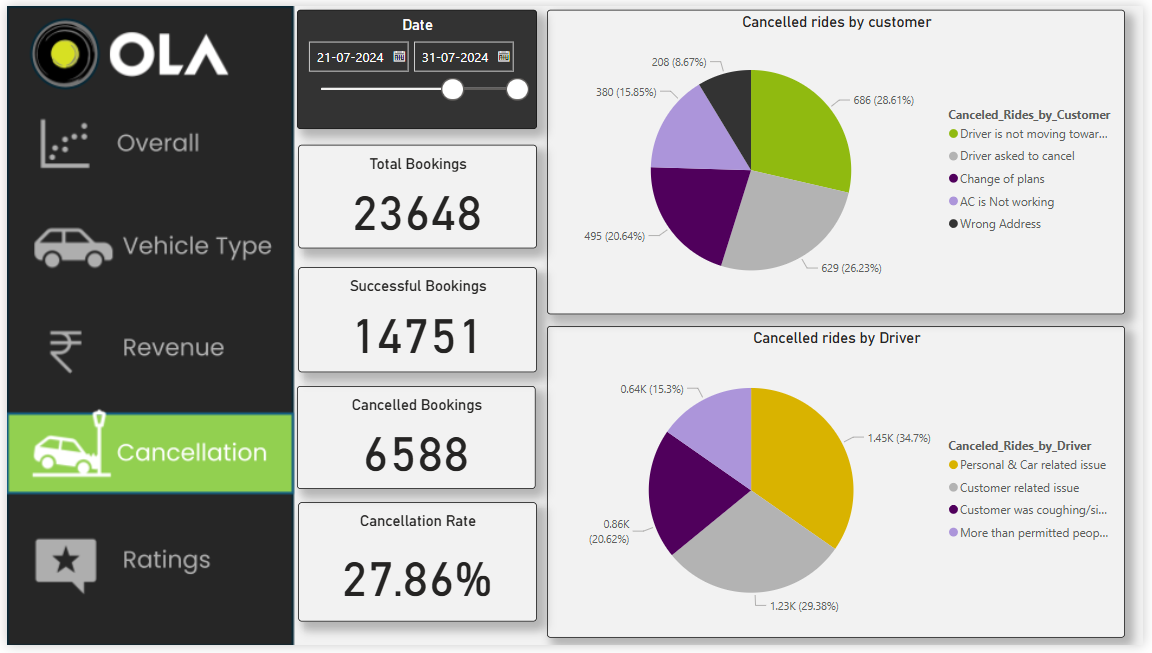

This screenshot's page, from the dashboard's own definition file:
{"tool":"powerbi","page":{"name":"cancellation","canvas":[1280,720],"ordinal":3},"visuals":[{"type":"actionButton","box":[0,241.4,324.3,67.1],"z":0},{"type":"actionButton","box":[0,360,324.3,68.6],"z":1000},{"type":"actionButton","box":[0,595.7,324.3,68.6],"z":2000},{"type":"actionButton","box":[0,121.4,324.3,67.1],"z":3000},{"type":"pieChart","title":"Cancelled rides by customer","fields":{"Category":["July.Canceled_Rides_by_Customer"],"Y":["CountNonNull(July.Canceled_Rides_by_Customer)"]},"box":[608.6,4.3,651.4,342.9],"z":3001},{"type":"pieChart","title":"Cancelled rides by Driver","fields":{"Category":["July.Canceled_Rides_by_Driver"],"Y":["CountNonNull(July.Canceled_Rides_by_Driver)"]},"box":[608.6,360,651.4,351.4],"z":3002},{"type":"slicer","title":"Date","fields":{"Values":["July.Date"]},"box":[327.1,4.3,270,134.3],"z":3003},{"type":"card","title":"Total Bookings","fields":{"Values":["Count(July.Booking_ID)"]},"box":[328.6,155.7,268.6,117.1],"z":3004},{"type":"card","title":"Successful Bookings","fields":{"Values":["Count(July.Booking_ID)"]},"box":[328.6,294.3,268.6,118.6],"z":3005},{"type":"card","title":"Cancelled Bookings","fields":{"Values":["Count(July.Booking_ID)"]},"box":[327.1,428.6,268.6,115.7],"z":3006},{"type":"card","title":"Cancellation Rate","fields":{"Values":["July.CanceledPercentage"]},"box":[328.6,558.6,268.6,134.3],"z":3007}]}

Visuals, with their boxes in screenshot pixels (x1, y1, x2, y2), scaled from the page's 1280x720 canvas onto the 1152x653 screenshot:
actionButton: (left=0, top=219, right=292, bottom=280)
actionButton: (left=0, top=326, right=292, bottom=389)
actionButton: (left=0, top=540, right=292, bottom=602)
actionButton: (left=0, top=110, right=292, bottom=171)
"Cancelled rides by customer" pieChart: (left=548, top=4, right=1134, bottom=315)
"Cancelled rides by Driver" pieChart: (left=548, top=326, right=1134, bottom=645)
"Date" slicer: (left=294, top=4, right=537, bottom=126)
"Total Bookings" card: (left=296, top=141, right=537, bottom=247)
"Successful Bookings" card: (left=296, top=267, right=537, bottom=374)
"Cancelled Bookings" card: (left=294, top=389, right=536, bottom=494)
"Cancellation Rate" card: (left=296, top=507, right=537, bottom=628)
